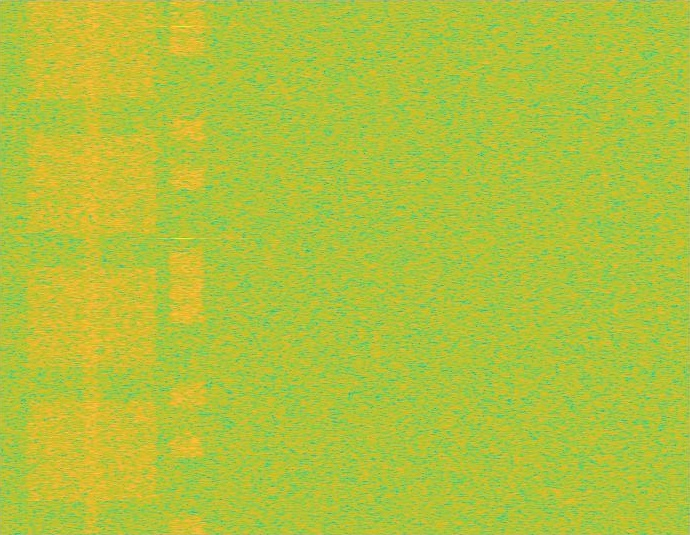5G: (23, 0, 161, 534)
DSSS: (83, 0, 101, 534)
LTE: (170, 0, 205, 534)
Radar: (176, 0, 190, 534)
